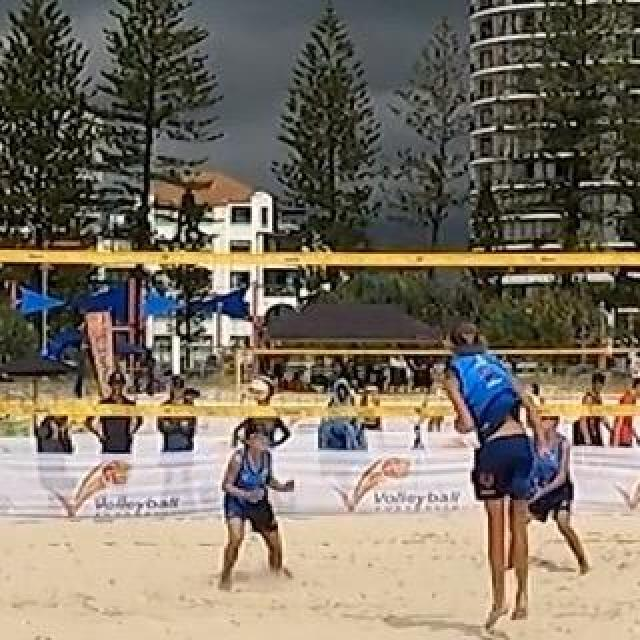volleyball: (246, 376, 274, 402)
